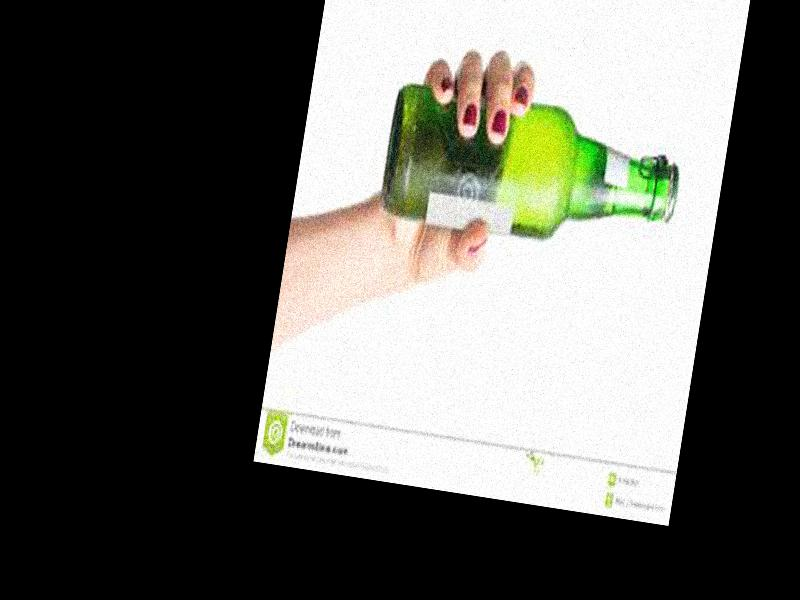Beer: (378, 73, 689, 264)
